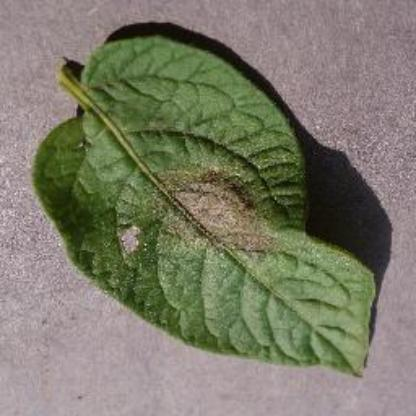Late-Blight: (20, 29, 398, 405)
